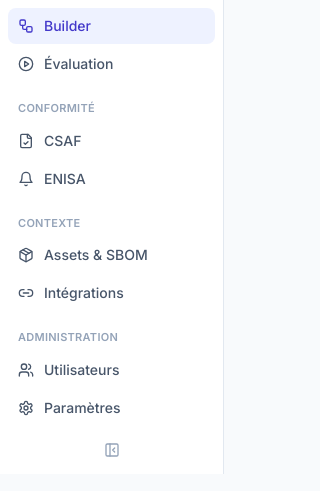
Test: SidebarNav › se replie en mode icônes (les libellés disparaissent)
This screenshot has width=320, height=491.
Click the button named "Replier la navigation" at (112, 450), box [8,434,215,466]
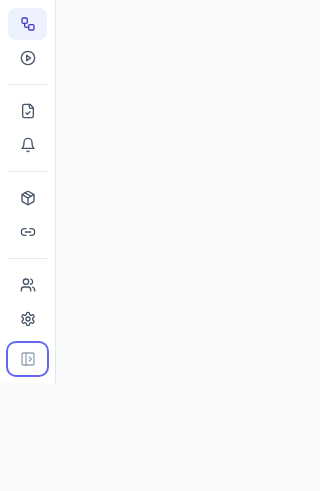
Expected: the link named "Évaluation" is shown, [20,50,36,66]
Now the text "Évaluation" is gone
